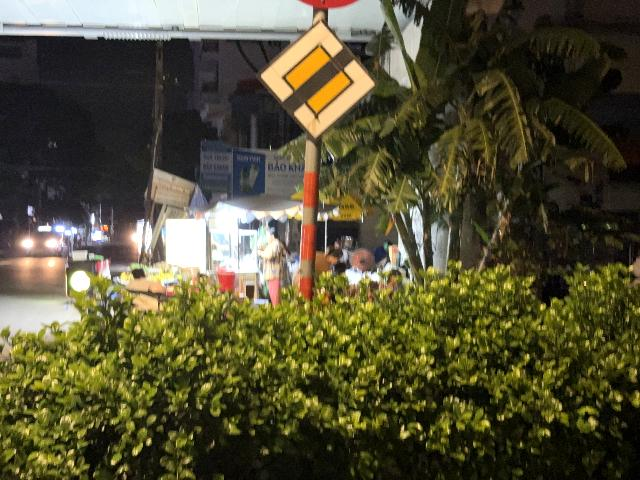het-duong-uu-tien: (256, 18, 379, 142)
